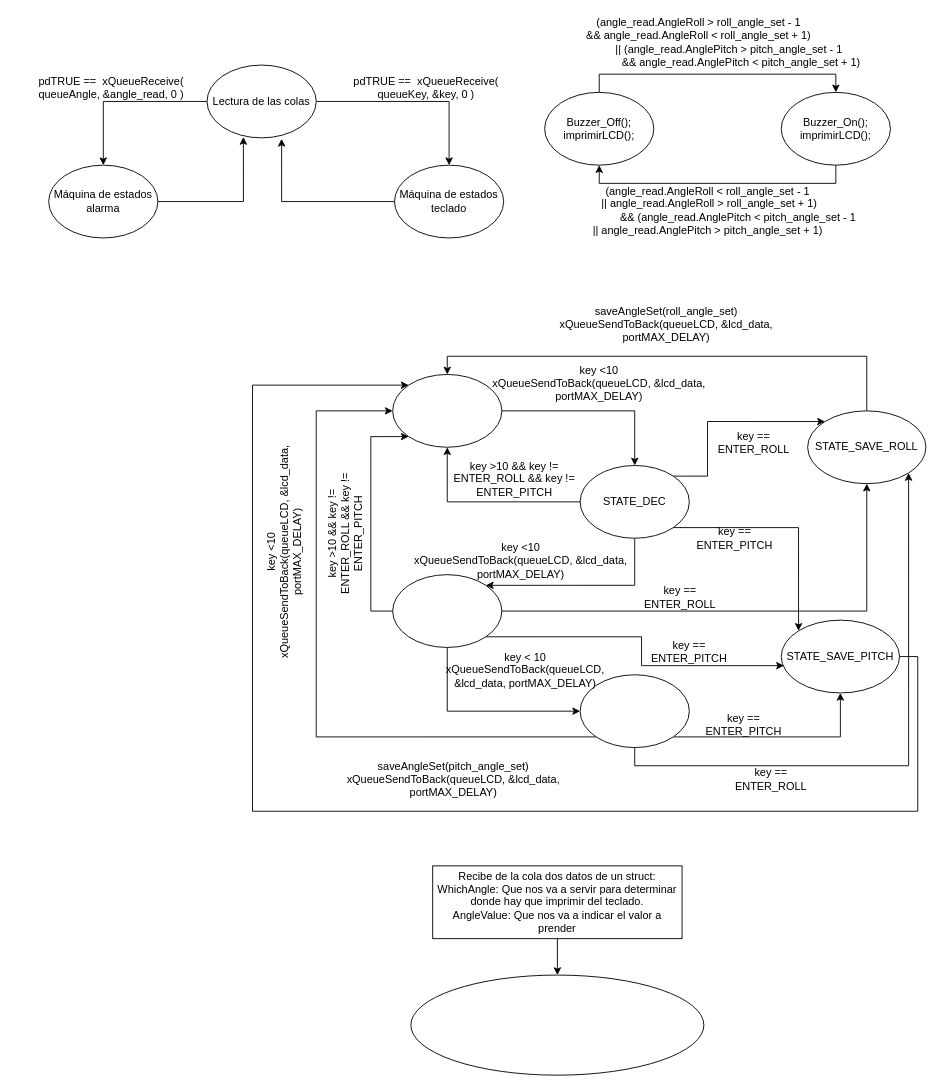
Some shapes in this 942 by 1091 pixel diagram are drawn without their labels. Each missing label, with the box of its shape:
STATE_CEN: (392, 574, 502, 647)
STATE_ENTER: (579, 674, 689, 748)
STATE_UNIT: (392, 374, 502, 447)
xQueueReceive(queueLCD, &lcd_data_keyboard, portMAX_DELAY): (410, 974, 704, 1075)
